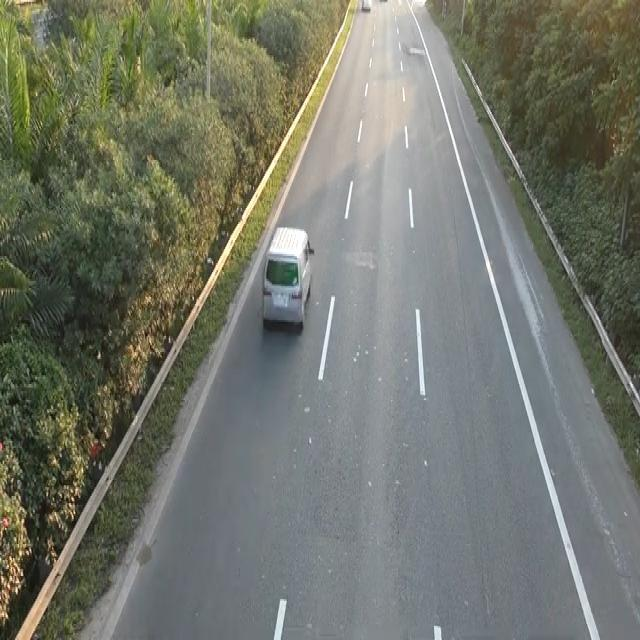lorry: (259, 222, 314, 332)
